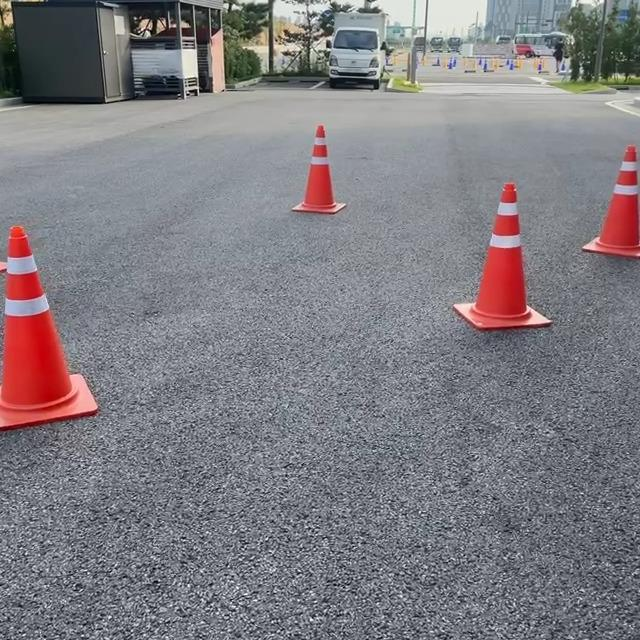fallen_object: (0, 204, 156, 508), (433, 170, 565, 355), (275, 112, 369, 283), (591, 116, 640, 320)
